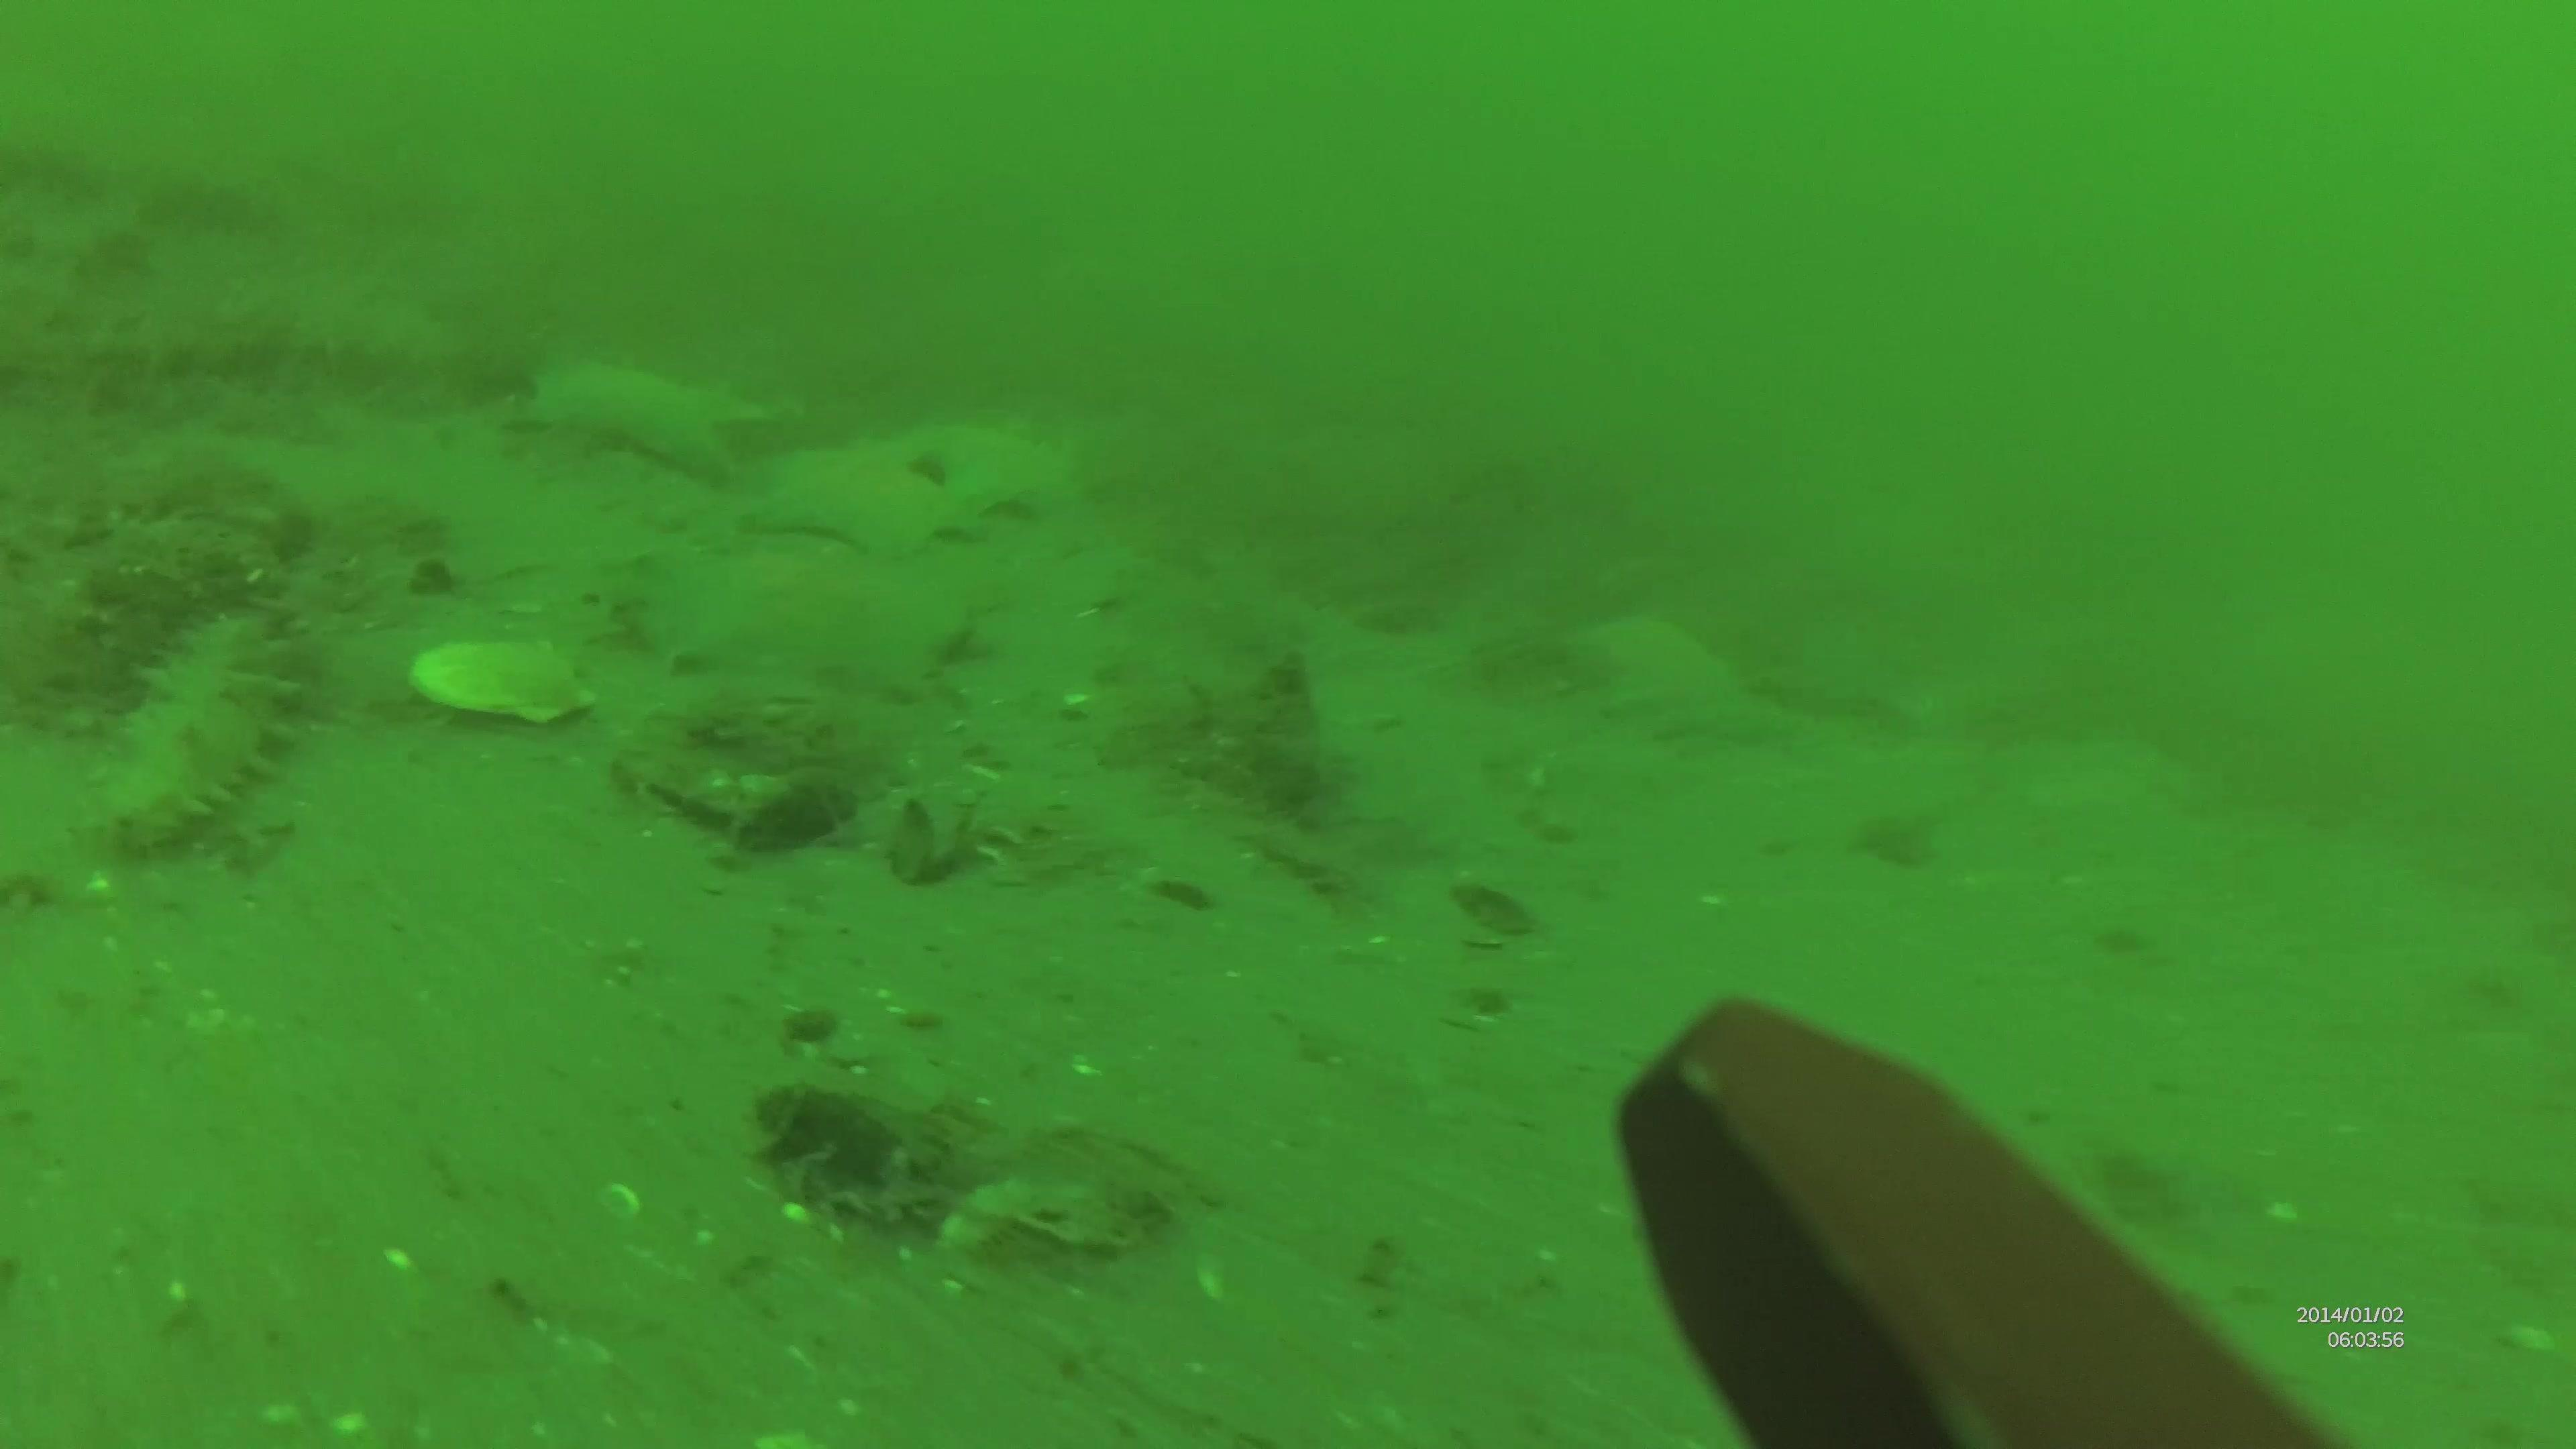holothurian: (103, 609, 276, 842)
scallop: (410, 626, 586, 727)
starfish: (752, 396, 1062, 554), (522, 345, 759, 465)
